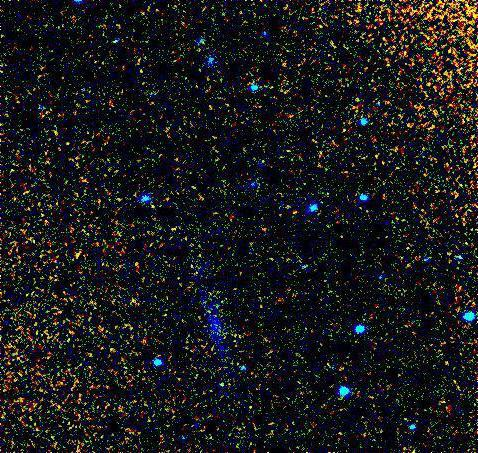star: (239, 168, 269, 198)
